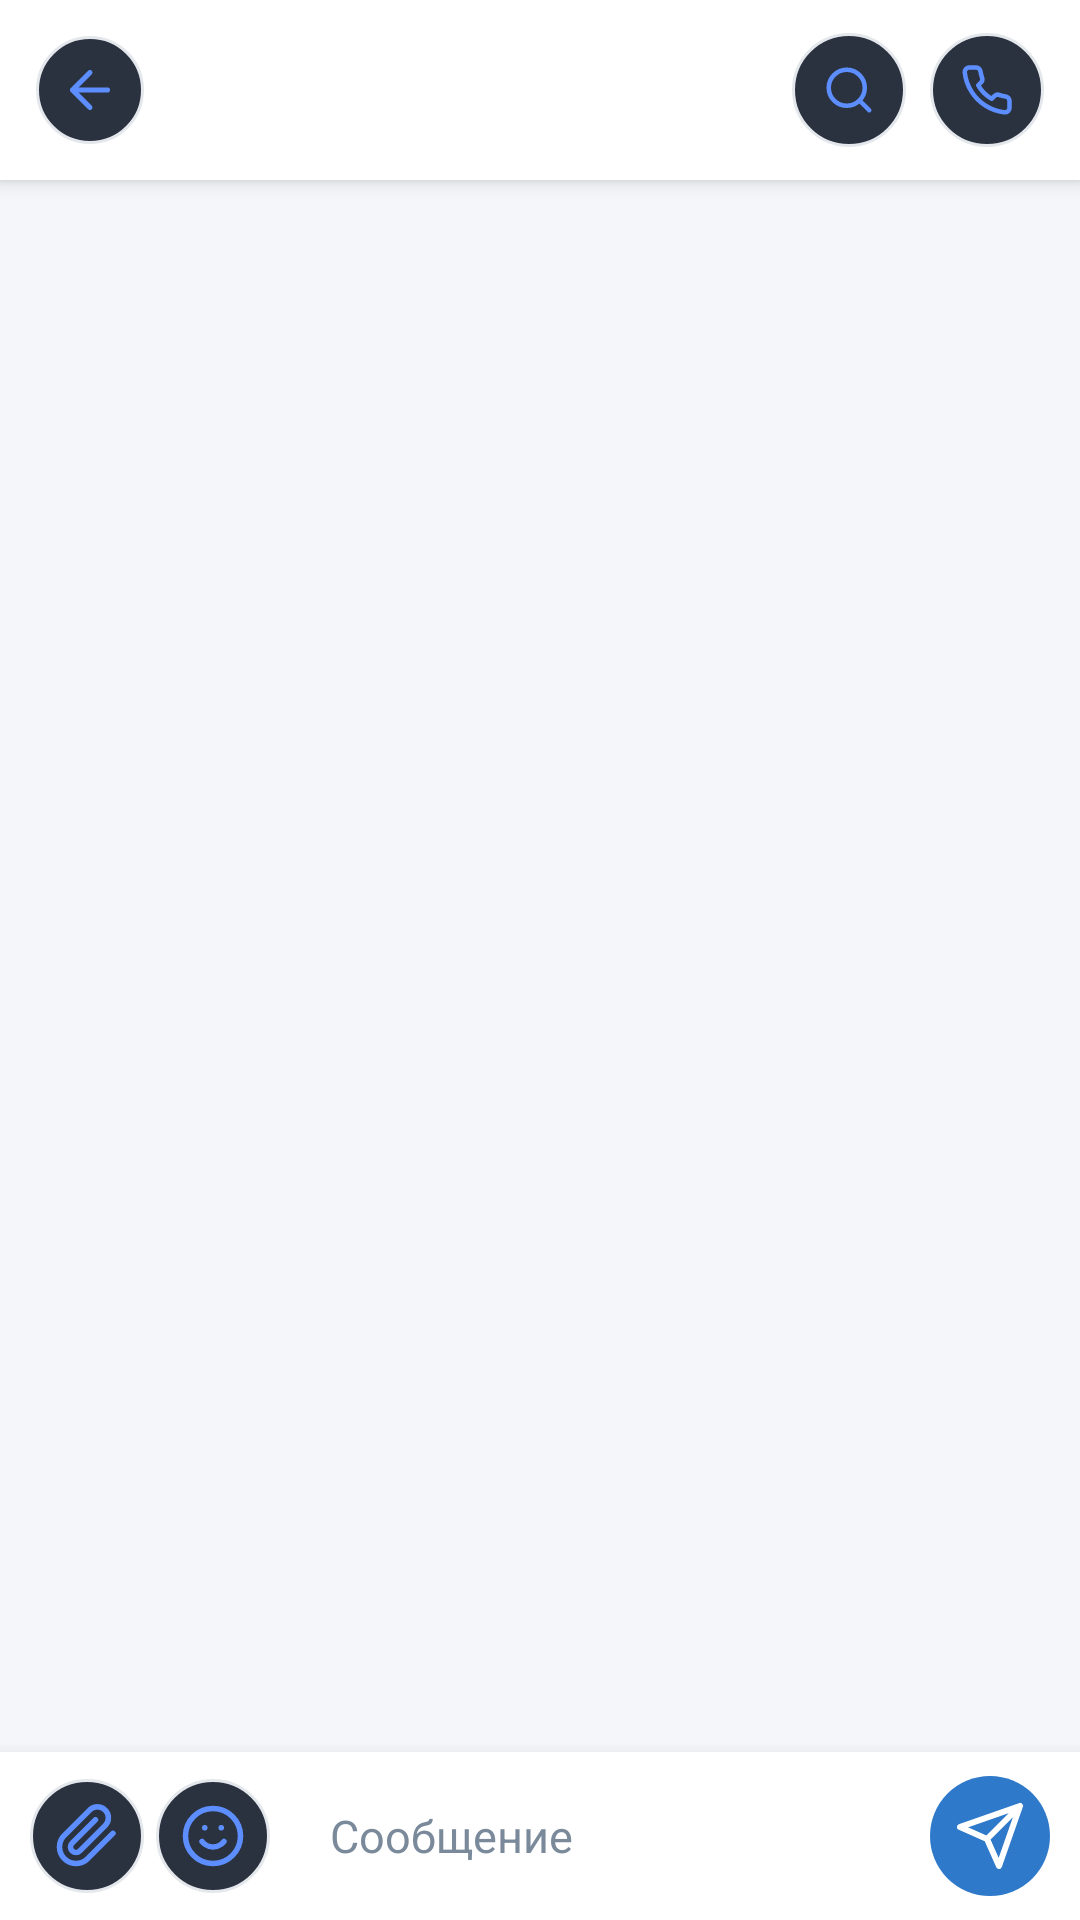

Named icons in this screenshot (1080*1920) and their centers, (x,y):
arrow left: (90,90)
paperclip: (87,1836)
phone: (987,90)
search: (849,90)
send: (990,1836)
smile: (213,1836)
